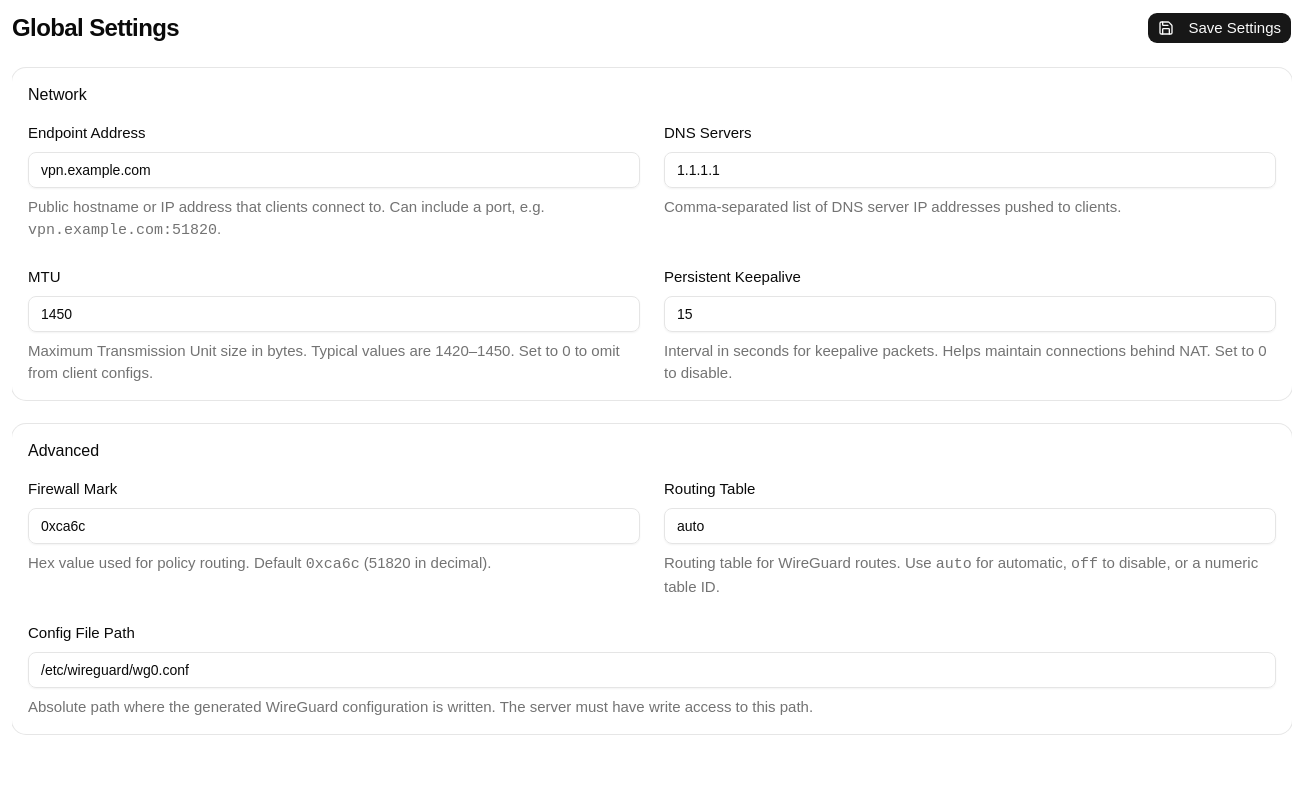
it: SettingsPage interactions › shows validation error for config file path not starting with /
The width and height of the screenshot is (1304, 812).
In the field showing "/etc/wireguard/wg0.conf": (652,670) [28,652,1276,688], type "relative/path/wg0.conf"
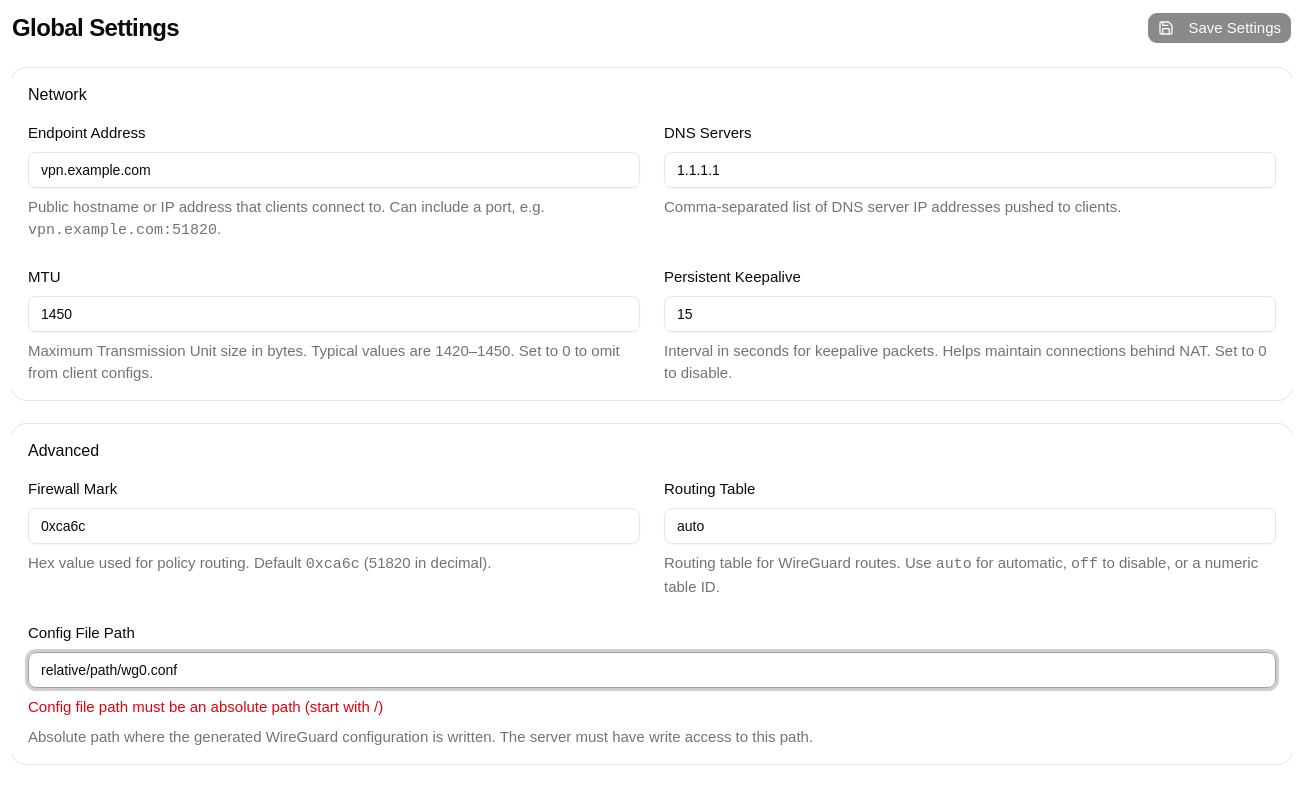
Expected: the text "Config file path must be an absolute path (start with /)" is shown, [28,698,383,715]
